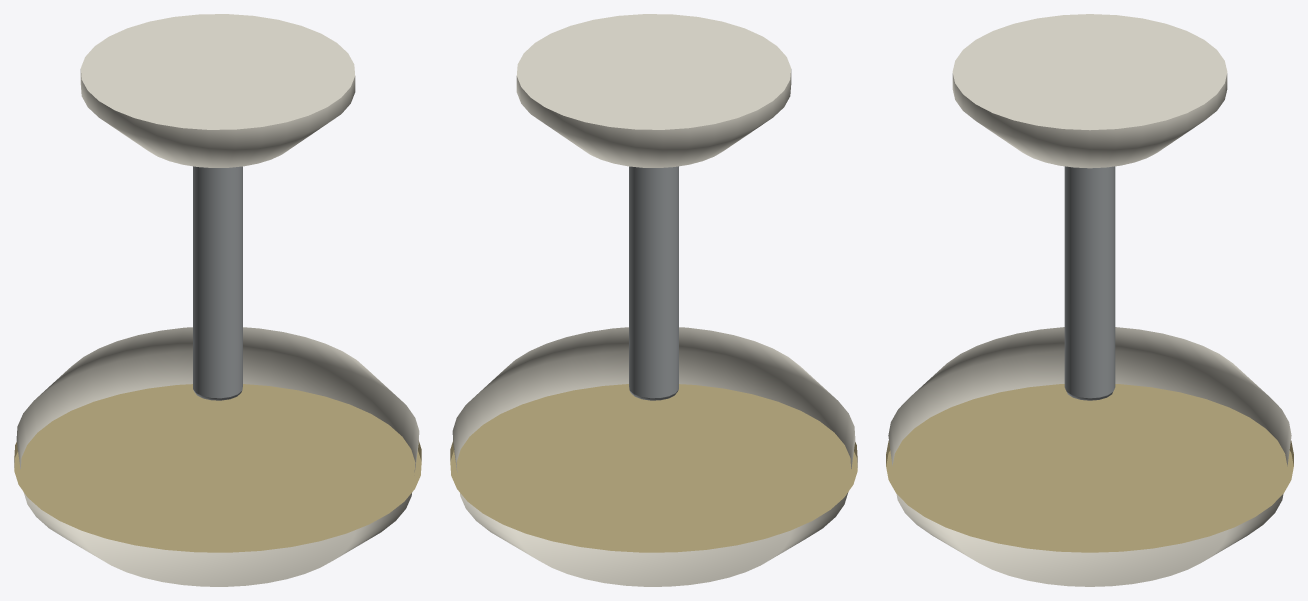
The model's file is QuatTran_Than.glb.
3 views of the same model, side by side, from view 1: azimuth 30°, elevation 25°; view 2: azimuth 150°, elevation 25°; view 3: azimuth 270°, elevation 25° (orthographic).
Parts seen in each view (by area): view 1: geometry_0; view 2: geometry_0; view 3: geometry_0.
Boxes of the visible parts, x1=… form: geometry_0: x1=14, y1=14, x2=421, y2=586; geometry_0: x1=450, y1=14, x2=857, y2=586; geometry_0: x1=886, y1=14, x2=1293, y2=586.
Size of the model in its own units: 0.178 by 0.22 by 0.178.
